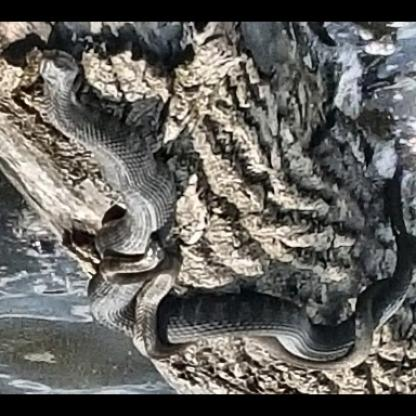Snake: (8, 55, 414, 368)
